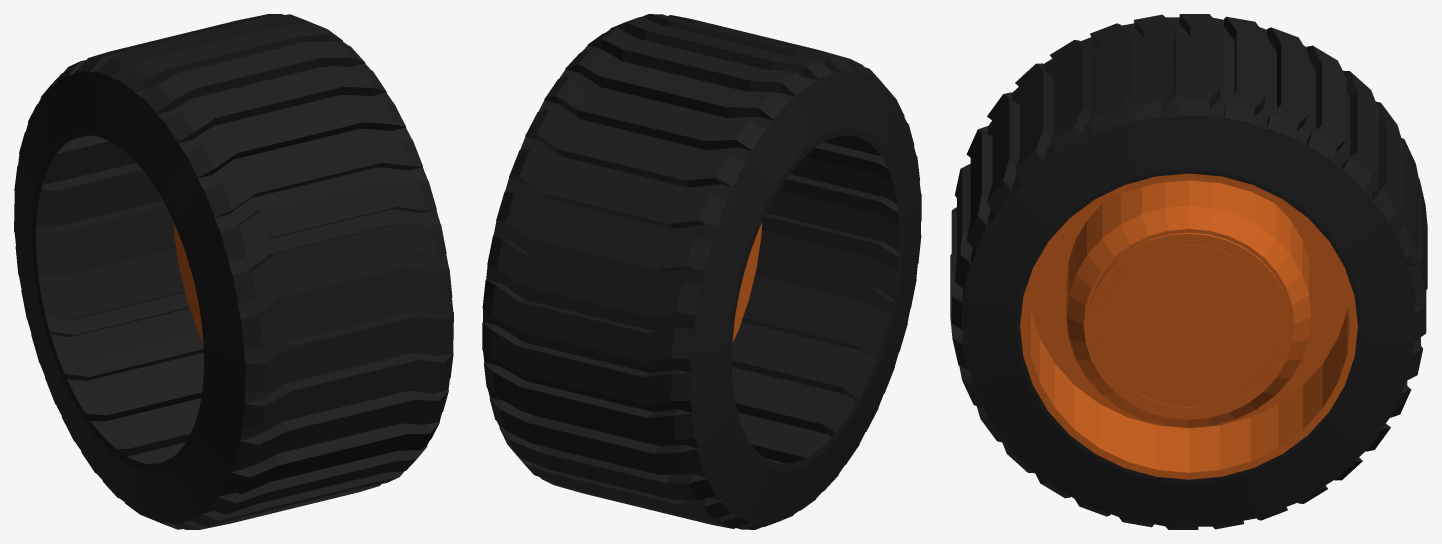
Rendered from Wheel_Test.fbx.
The picture shows the model from 3 angles, left to right: view 1: azimuth 30°, elevation 25°; view 2: azimuth 150°, elevation 25°; view 3: azimuth 270°, elevation 25°; orthographic projection.
Visible parts, largest first — view 1: Coat, Rim; view 2: Coat, Rim; view 3: Coat, Rim.
Boxes of the visible parts, x1=… form: Coat: x1=14, y1=14, x2=453, y2=529; Rim: x1=174, y1=223, x2=203, y2=342; Coat: x1=482, y1=14, x2=921, y2=529; Rim: x1=732, y1=223, x2=761, y2=343; Coat: x1=950, y1=14, x2=1427, y2=529; Rim: x1=1020, y1=173, x2=1357, y2=479.
Bounding box in the file's own units: 113 × 208 × 208.
